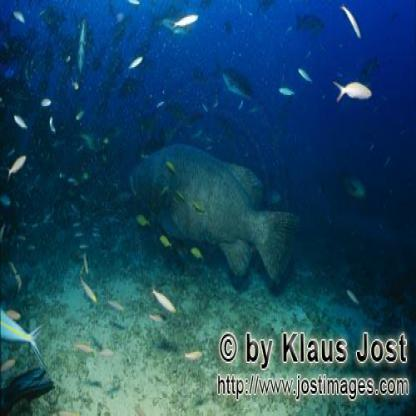Serranidae -Groupers-: (128, 135, 303, 291)
